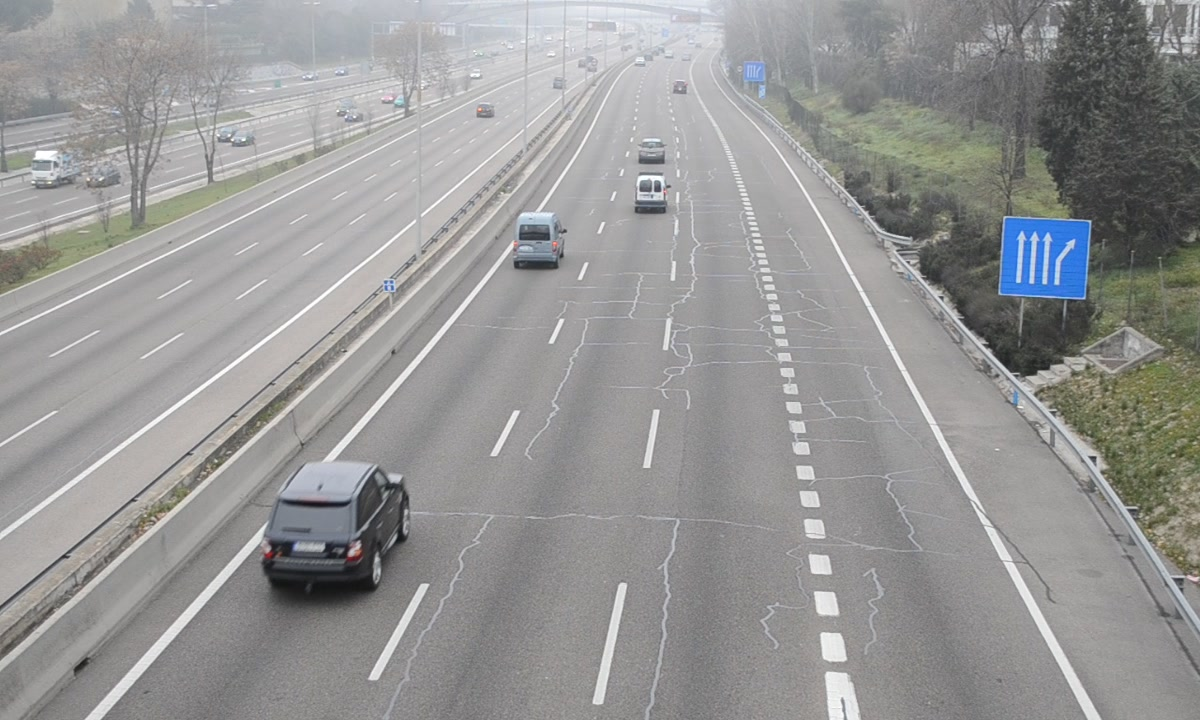car: (262, 463, 409, 586), (635, 137, 666, 164)
van: (515, 212, 566, 265), (633, 172, 668, 212)
